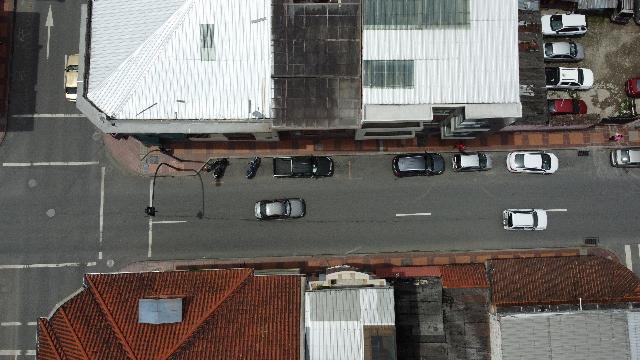Vehiculo: (272, 156, 334, 178), (392, 152, 444, 176), (544, 67, 594, 91), (254, 198, 306, 221), (506, 152, 558, 174), (502, 209, 548, 232), (541, 14, 587, 36), (544, 41, 584, 62), (452, 152, 492, 172), (64, 54, 78, 102), (548, 99, 586, 115), (610, 148, 640, 168), (625, 76, 639, 98)
